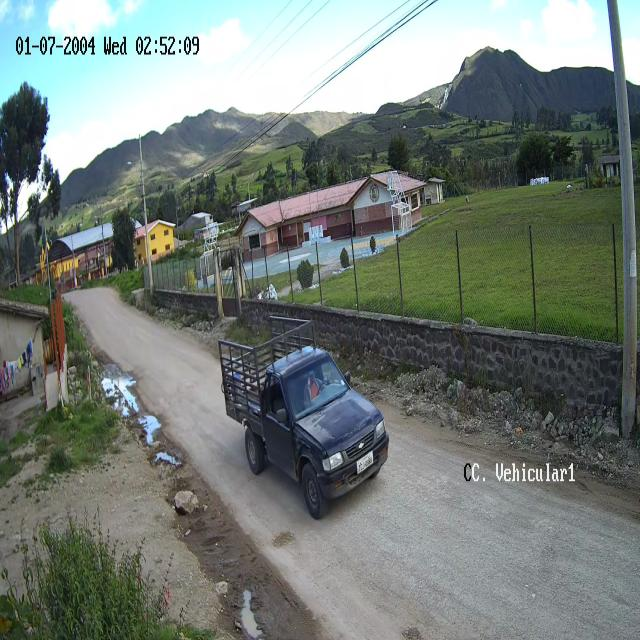CMT: (218, 340, 389, 521)
